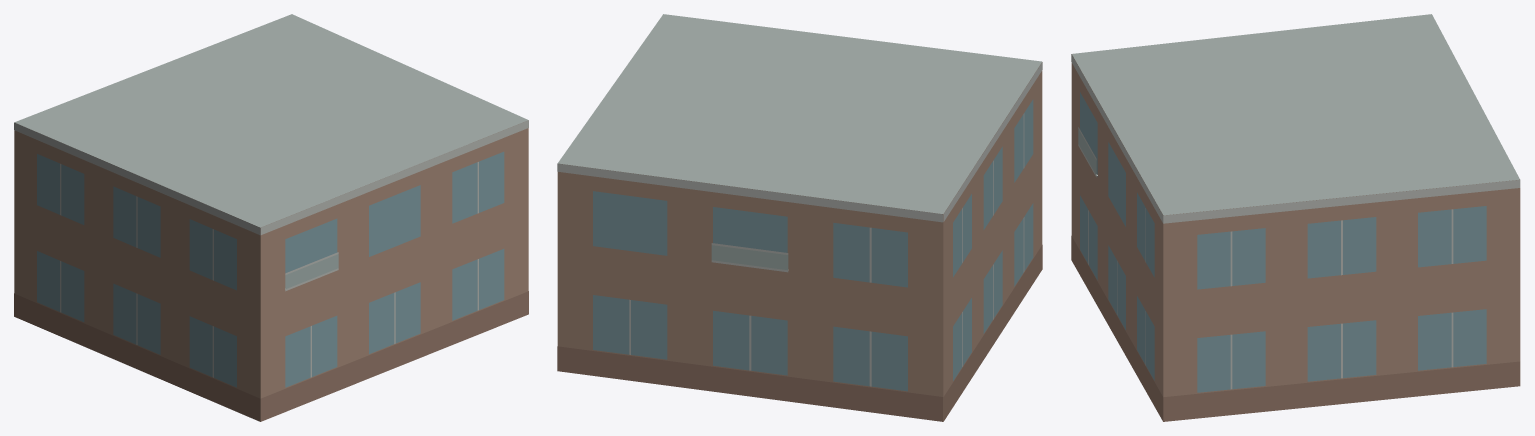
Rendered from survey-upis-32688306.glb.
3 renders of one model, left to right at view 1: azimuth 30°, elevation 25°; view 2: azimuth 150°, elevation 25°; view 3: azimuth 270°, elevation 25°, orthographic. The views are drawn at different scales.
Parts seen in each view (by area): view 1: survey-upis-32688306.tmp; view 2: survey-upis-32688306.tmp; view 3: survey-upis-32688306.tmp.
Boxes of the visible parts, x1,y1,x2,y2 form: survey-upis-32688306.tmp: [14, 14, 528, 421]; survey-upis-32688306.tmp: [557, 14, 1042, 421]; survey-upis-32688306.tmp: [1071, 14, 1520, 421].
Size of the model in its own units: 12.77 by 6.1 by 12.02.
